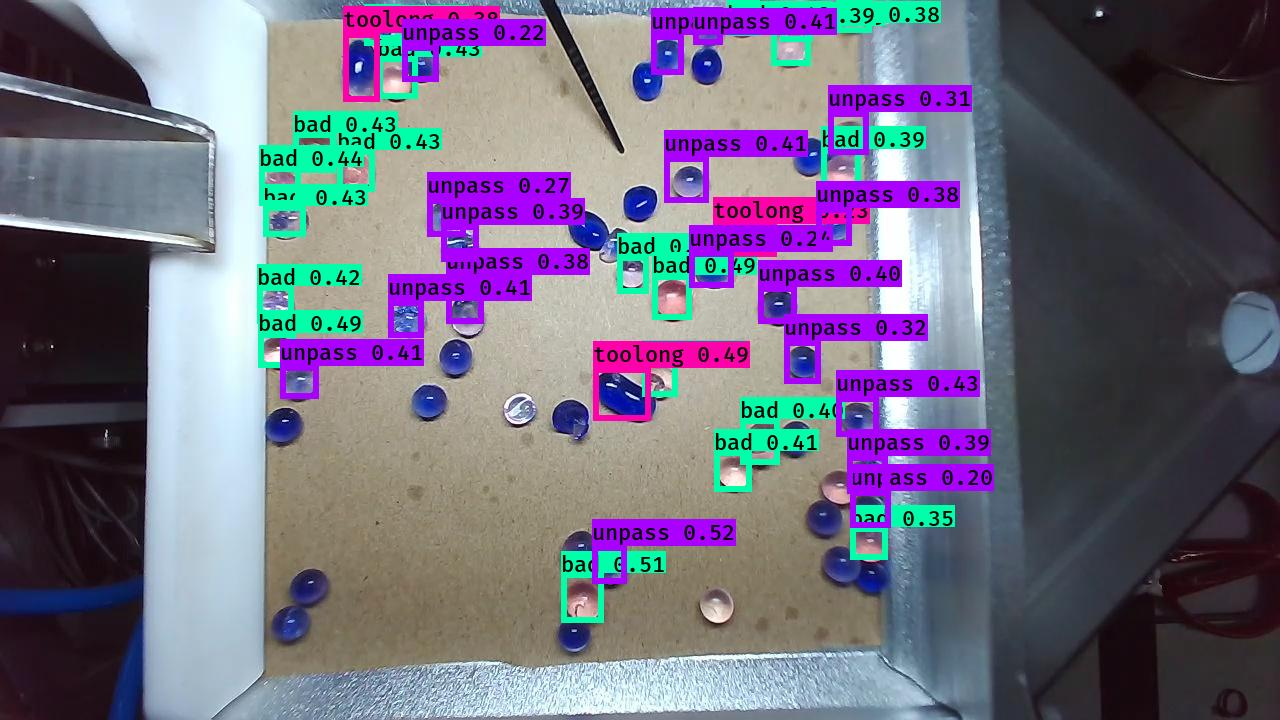bad: (559, 577, 605, 621), (297, 128, 341, 173), (336, 149, 379, 194), (850, 524, 896, 565), (259, 169, 306, 209), (741, 419, 780, 467), (695, 585, 736, 629), (653, 280, 694, 319), (365, 10, 404, 49), (269, 205, 313, 238), (714, 452, 751, 491), (774, 30, 811, 69), (819, 470, 860, 505), (258, 288, 295, 326), (833, 1, 875, 34), (824, 155, 861, 191), (727, 1, 763, 37), (501, 392, 536, 428), (612, 256, 647, 291), (642, 363, 675, 399), (260, 334, 295, 367), (379, 67, 412, 102), (780, 1, 815, 32)
defact: (600, 225, 631, 265)
pass: (565, 209, 611, 250), (263, 408, 306, 449), (287, 568, 330, 609), (824, 544, 865, 587), (270, 604, 311, 646), (411, 382, 452, 423), (436, 337, 477, 377), (553, 397, 591, 438), (559, 526, 595, 569), (806, 500, 845, 539), (555, 614, 593, 654), (621, 184, 659, 223), (793, 135, 827, 178), (630, 62, 663, 102), (780, 421, 815, 458), (690, 45, 722, 85)
toolong: (594, 371, 654, 423), (342, 40, 381, 103), (714, 223, 771, 262)
unpass: (824, 121, 870, 168), (758, 287, 799, 328), (696, 251, 736, 291), (388, 299, 427, 340), (277, 364, 319, 401), (449, 295, 486, 337), (851, 492, 892, 529), (786, 344, 822, 386), (842, 398, 881, 436), (402, 44, 439, 84), (594, 543, 627, 587), (444, 228, 482, 266), (693, 7, 728, 48), (850, 457, 888, 493), (817, 208, 853, 245), (450, 266, 486, 301), (672, 163, 705, 200), (652, 36, 683, 75), (430, 201, 463, 237)
